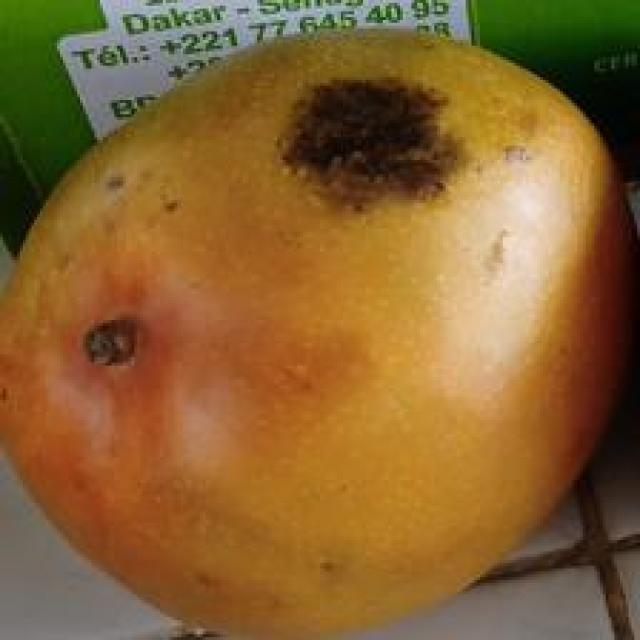Mango: (0, 23, 632, 640)
